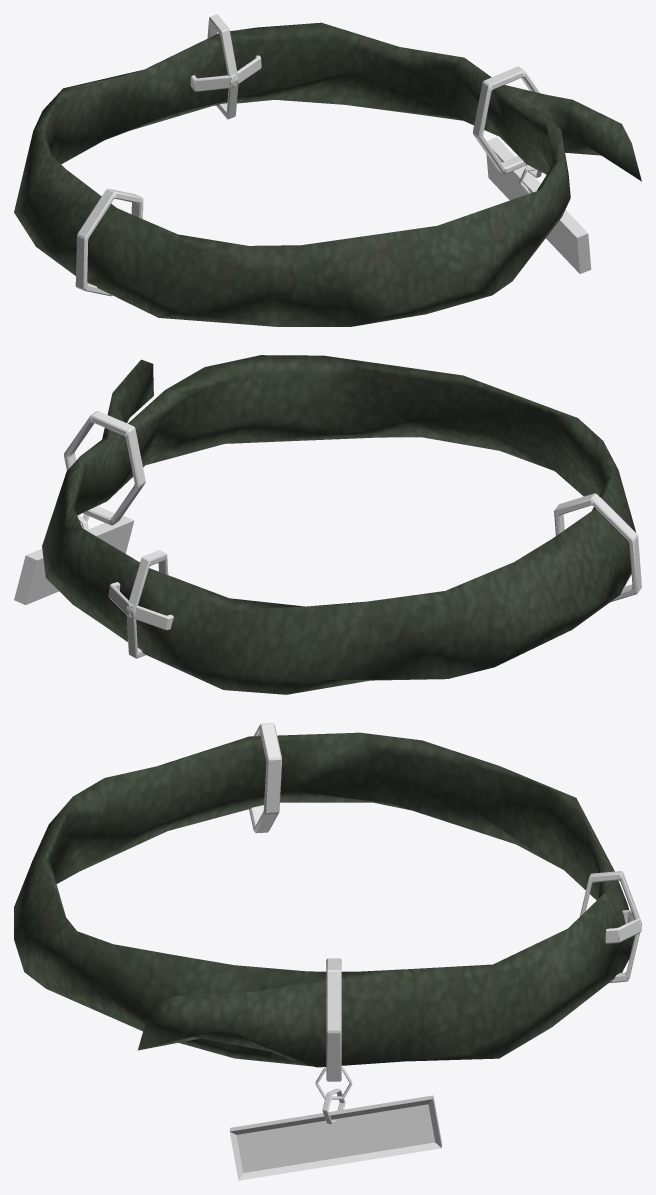
The model's file is Collar.fbx.
3 renders of one model, top to bottom at view 1: azimuth 30°, elevation 25°; view 2: azimuth 150°, elevation 25°; view 3: azimuth 270°, elevation 25°, orthographic. The views are drawn at different scales.
Parts seen in each view (by area): view 1: Correa, Name; view 2: Correa, Name; view 3: Correa, Name.
Boxes of the visible parts, x1=… form: Correa: x1=14, y1=22, x2=641, y2=326; Name: x1=75, y1=14, x2=591, y2=296; Correa: x1=42, y1=355, x2=636, y2=694; Name: x1=14, y1=411, x2=641, y2=658; Correa: x1=14, y1=732, x2=634, y2=1067; Name: x1=229, y1=723, x2=641, y2=1180.
Size of the model in its own units: 317 by 110 by 304.
Materials: 1 (1 with a texture image).
